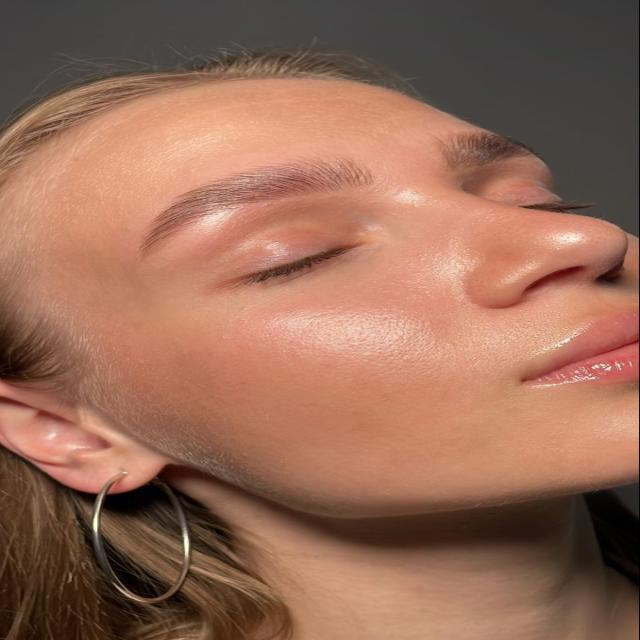oily: (177, 296, 485, 440), (376, 200, 634, 272), (517, 384, 640, 478), (104, 120, 342, 168), (174, 210, 257, 246)
